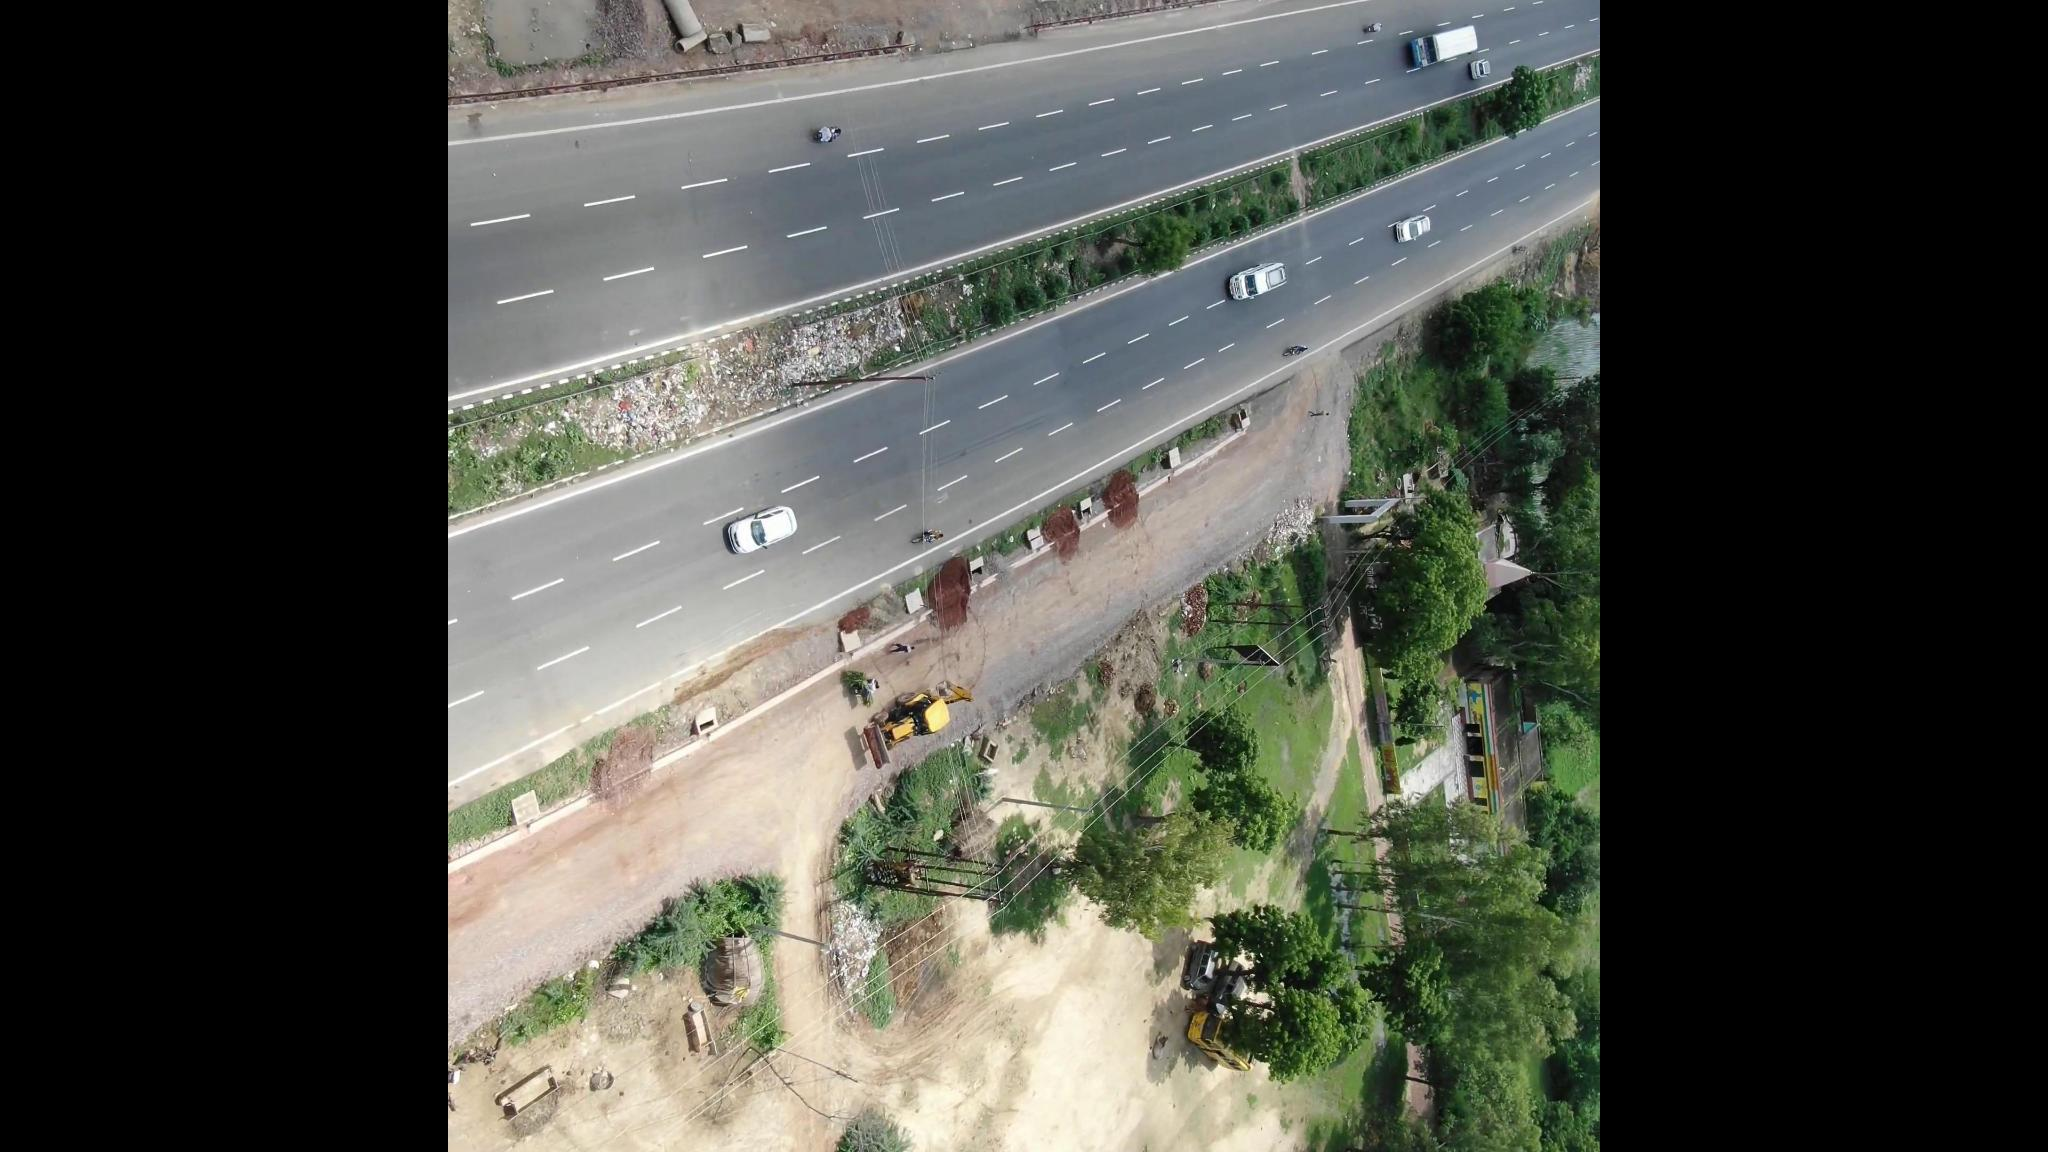Road_side_garbage: (762, 302, 896, 388), (598, 361, 705, 450)
